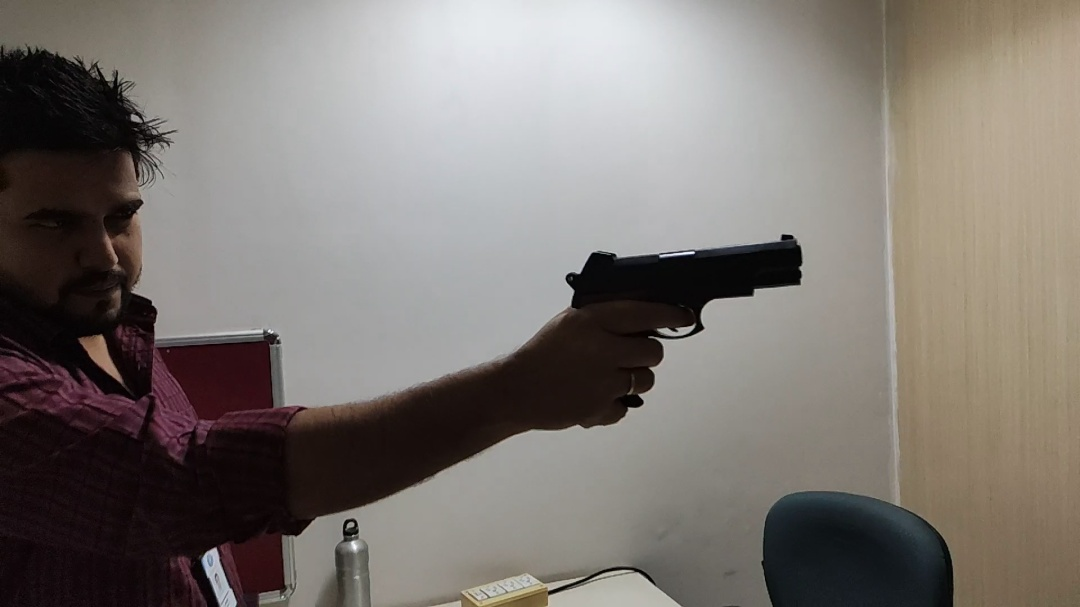gun: (563, 234, 804, 413)
